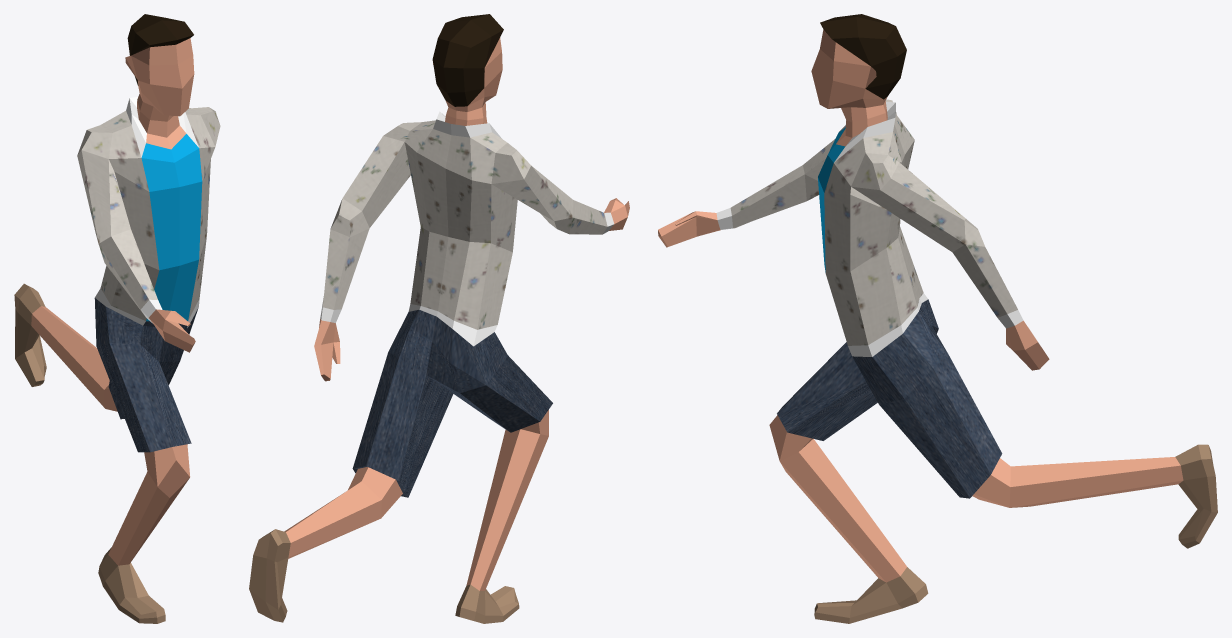
The model's file is SpringManA.005.glb.
3 renders of one model, left to right at view 1: azimuth 30°, elevation 25°; view 2: azimuth 150°, elevation 25°; view 3: azimuth 270°, elevation 25°, orthographic. The views are drawn at different scales.
Visible parts, largest first — view 1: SpringManA.006; view 2: SpringManA.006; view 3: SpringManA.006.
Boxes of the visible parts, bbox=[...] form: SpringManA.006: bbox=[14, 14, 220, 623]; SpringManA.006: bbox=[249, 14, 629, 623]; SpringManA.006: bbox=[658, 14, 1217, 623].
Bounding box in the file's own units: 0.4589 × 1.57 × 1.3.
Materials: 1 (1 with a texture image).
